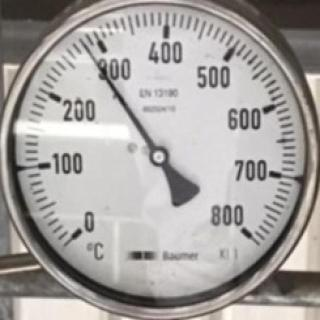gauge: (0, 0, 320, 320), (206, 201, 262, 255), (60, 208, 104, 258), (147, 144, 169, 168), (75, 33, 89, 48)
